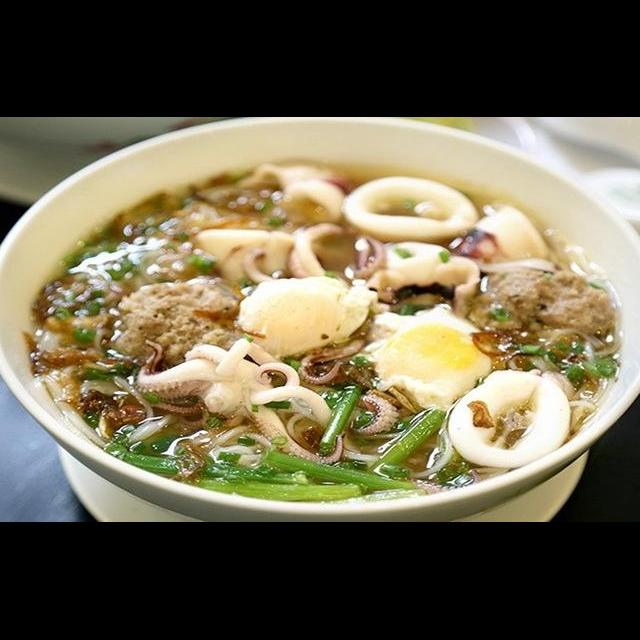bun: (280, 392, 456, 482), (511, 321, 623, 428), (121, 412, 280, 474)
muc: (125, 336, 404, 472), (438, 366, 575, 472), (334, 170, 486, 252), (352, 237, 485, 321), (447, 200, 560, 276)
trung: (355, 302, 504, 418), (224, 272, 378, 371)
